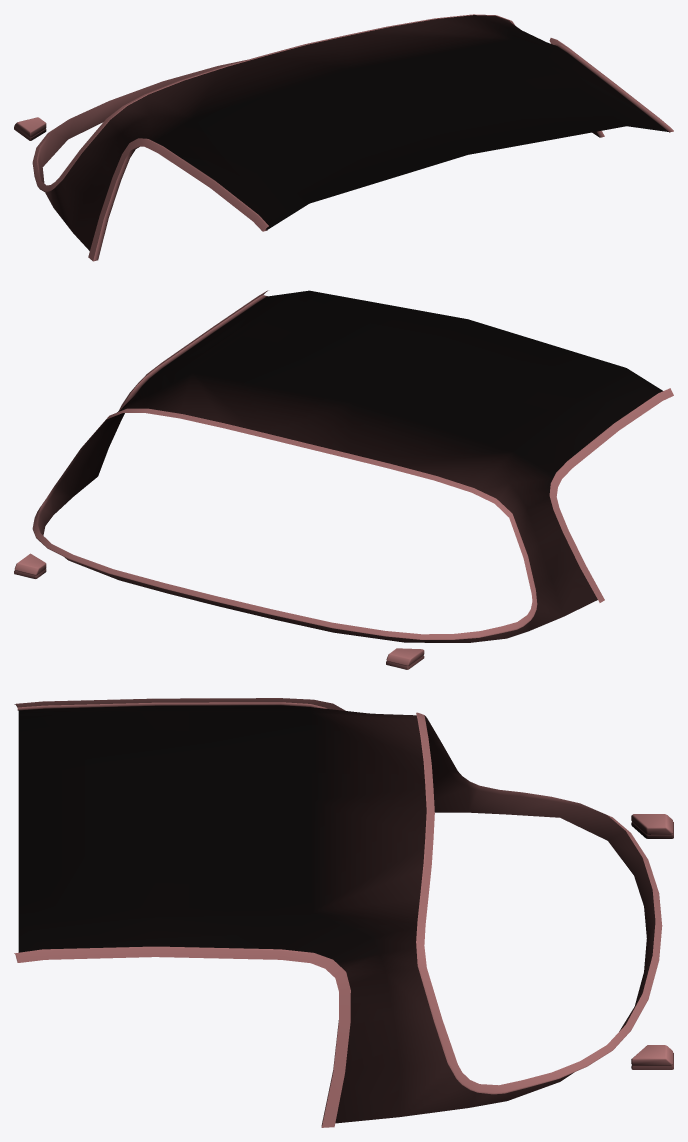
File: MX5_Roof01_Trim.fbx
The picture shows the model from 3 angles, top to bottom: view 1: azimuth 30°, elevation 25°; view 2: azimuth 150°, elevation 25°; view 3: azimuth 270°, elevation 25°; orthographic projection. The views are drawn at different scales.
Visible parts, largest first — view 1: MX5_Roof01_Trim; view 2: MX5_Roof01_Trim; view 3: MX5_Roof01_Trim.
Boxes of the visible parts, box(x1,y1,x2,y2) form: MX5_Roof01_Trim: box(14, 14, 673, 261); MX5_Roof01_Trim: box(14, 290, 673, 669); MX5_Roof01_Trim: box(14, 698, 673, 1127).
Size of the model in its own units: 139 by 35.14 by 122.
